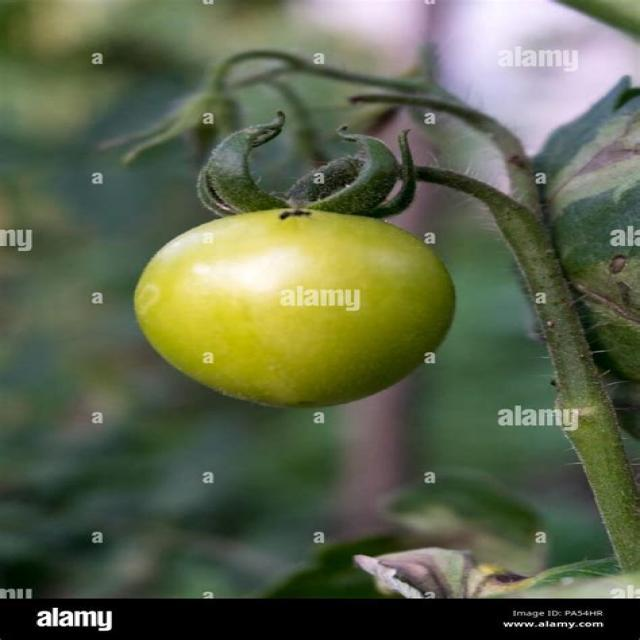Tomato: (132, 148, 457, 412)
